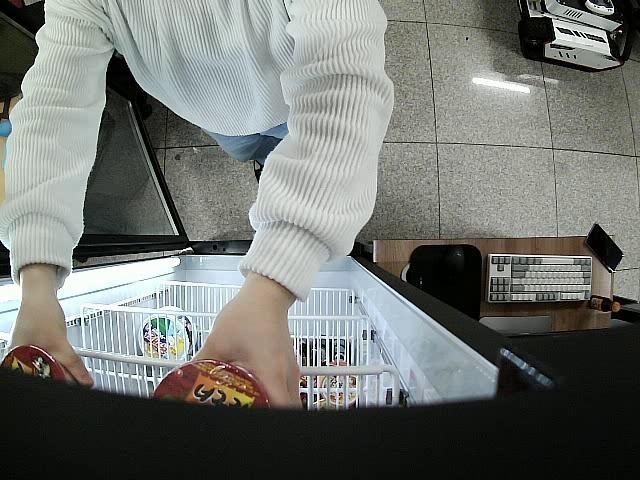06_nuguri_S: (148, 360, 276, 410), (2, 344, 83, 388)
